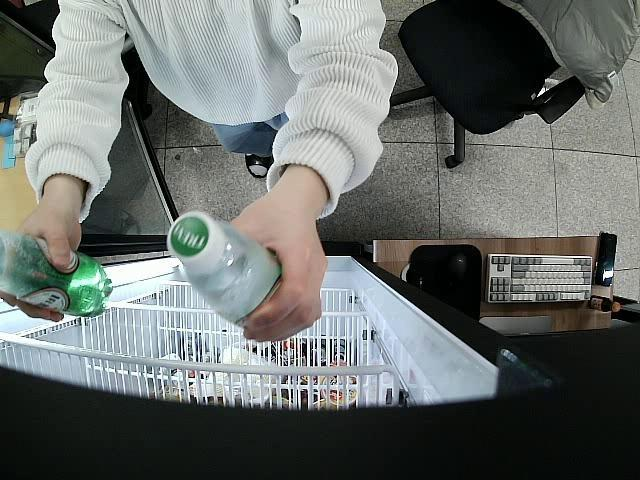18_trevi: (167, 212, 282, 328), (0, 224, 114, 320)
